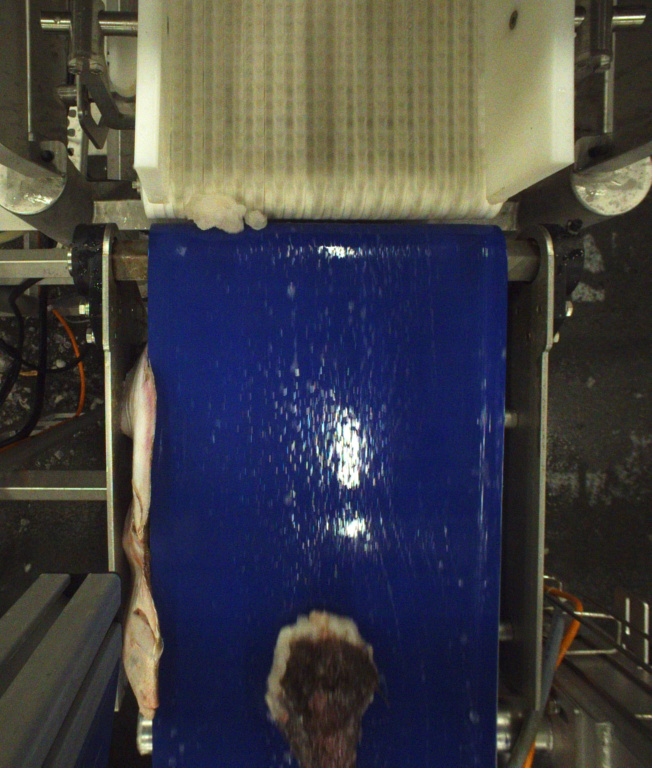ANF: (265, 611, 377, 768)
